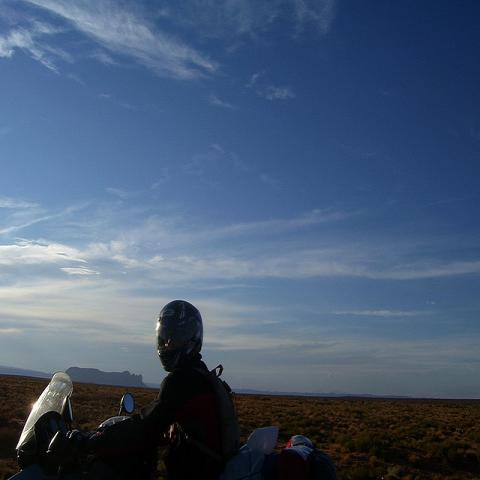motorcycle: (5, 372, 339, 479)
